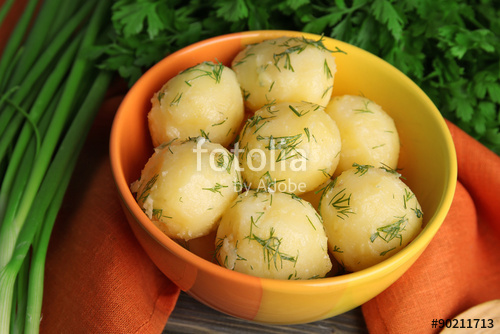boiled potatoes: (148, 47, 421, 281)
